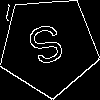S: (24, 21, 72, 77)
